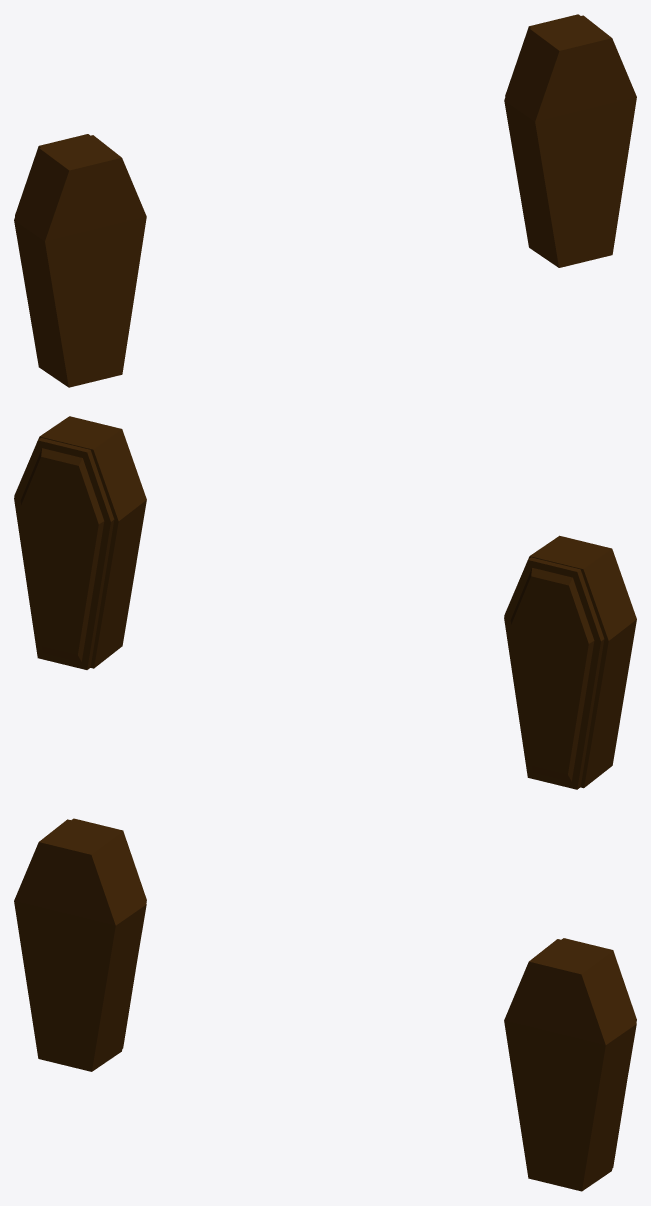
Rendered from P_Ataud.obj.
3 renders of one model, top to bottom at view 1: azimuth 30°, elevation 25°; view 2: azimuth 150°, elevation 25°; view 3: azimuth 330°, elevation 25°, orthographic.
Visible parts, largest first — view 1: P_Ataud1, P_Ataud2; view 2: P_Ataud2, P_Ataud1; view 3: P_Ataud1, P_Ataud2.
Boxes of the visible parts, <box> form: P_Ataud1: <box>14,134,146,387</box>; P_Ataud2: <box>504,14,636,267</box>; P_Ataud2: <box>14,416,146,669</box>; P_Ataud1: <box>504,535,636,789</box>; P_Ataud1: <box>14,818,146,1071</box>; P_Ataud2: <box>504,938,636,1191</box>.
Bounding box in the file's own units: 10.28 × 3.62 × 1.06.
